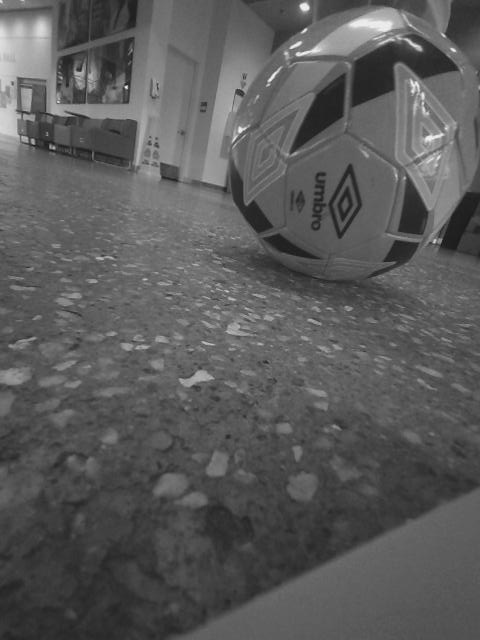ball: (223, 5, 480, 287)
